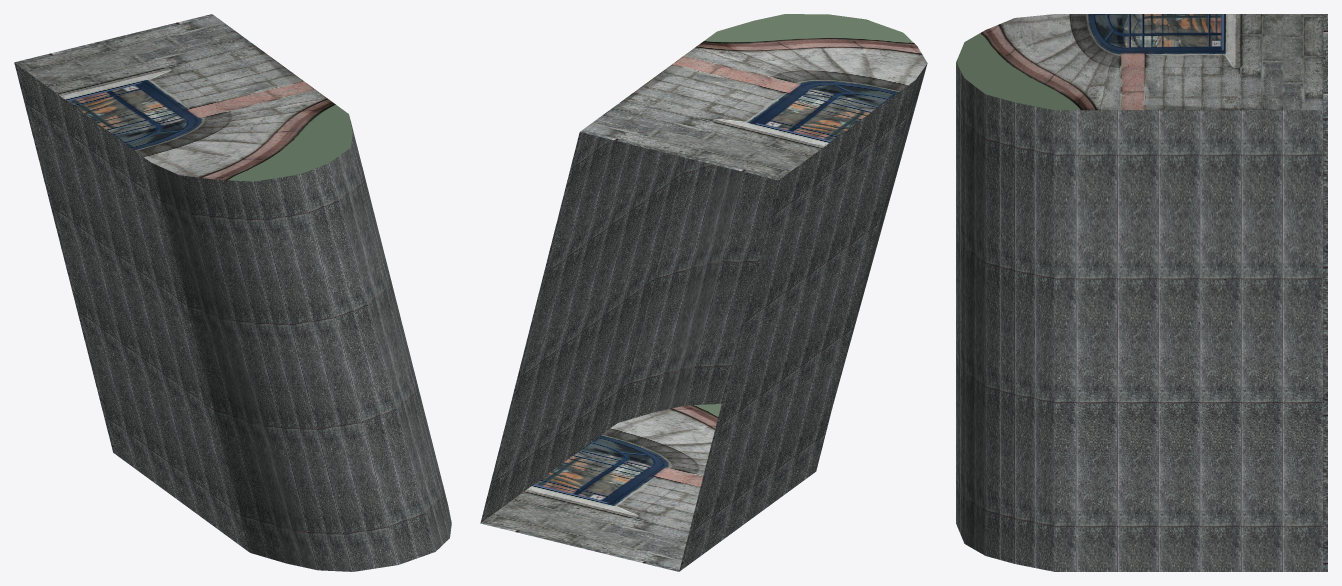
The model's file is Toompea_1a-origo.obj.
3 renders of one model, left to right at view 1: azimuth 30°, elevation 25°; view 2: azimuth 150°, elevation 25°; view 3: azimuth 270°, elevation 25°, orthographic.
Visible parts, largest first — view 1: Toompea_1a; view 2: Toompea_1a; view 3: Toompea_1a.
Part boxes in pixels (x1,y1,x2,y2): Toompea_1a: (14, 14, 451, 571); Toompea_1a: (480, 14, 927, 571); Toompea_1a: (956, 14, 1327, 571).
Bounding box in the file's own units: 2.25 × 3 × 2.44.
